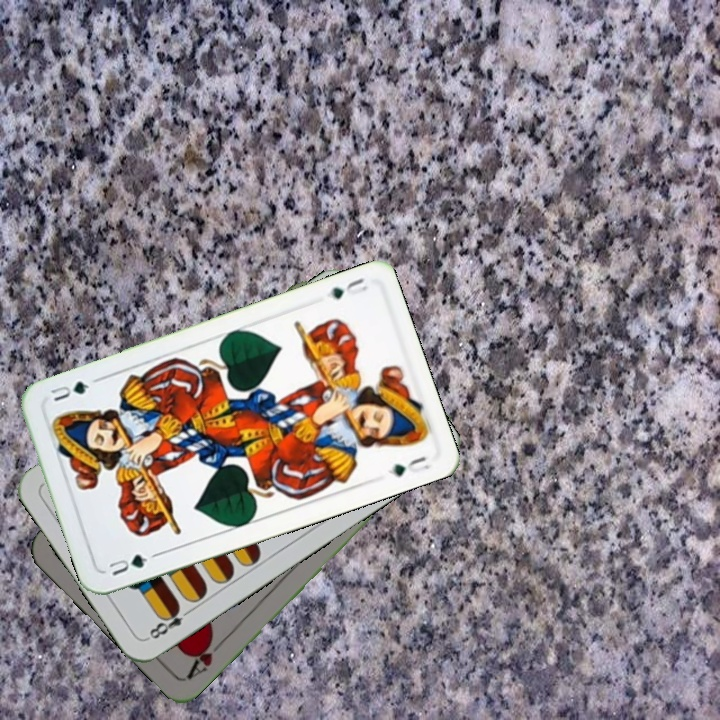E8: (143, 601, 196, 642)
GU: (104, 550, 151, 579), (325, 273, 370, 302)
HA: (182, 631, 228, 682)
